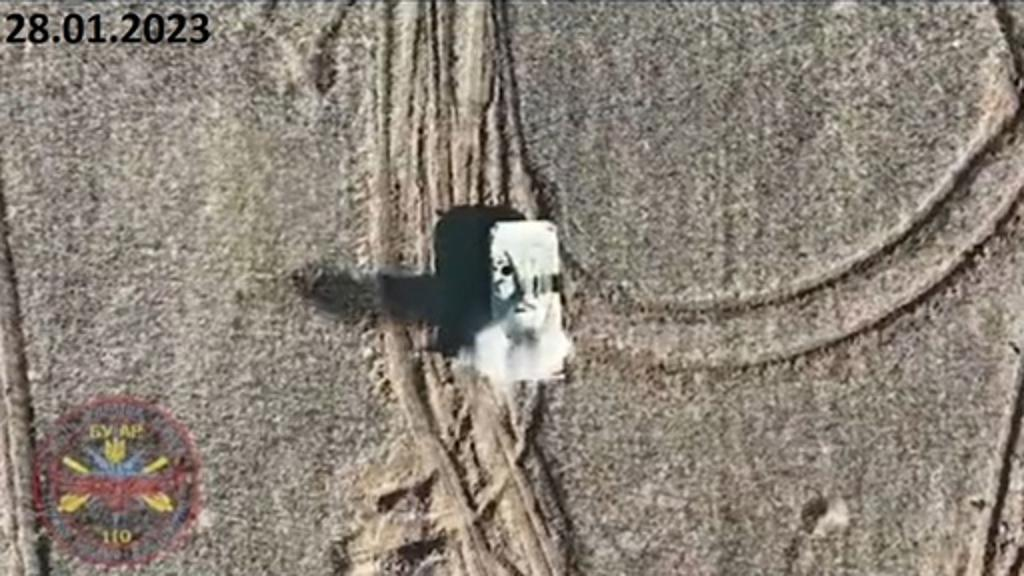APC-IFV: (468, 198, 570, 390)
